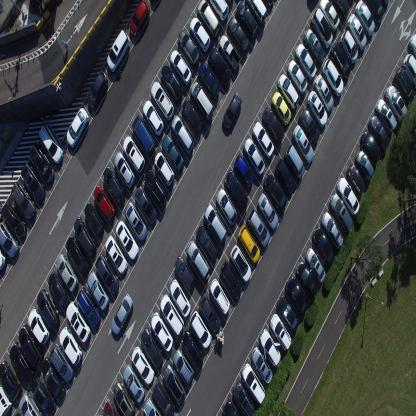car: (40, 356, 65, 401), (66, 299, 91, 343), (38, 122, 63, 166), (106, 29, 130, 74), (9, 341, 33, 386), (159, 292, 184, 335), (18, 324, 42, 368), (94, 253, 119, 295), (29, 142, 54, 184), (20, 162, 46, 202), (110, 292, 134, 335), (140, 327, 164, 370), (242, 362, 266, 405), (76, 287, 101, 328), (162, 362, 186, 404), (132, 115, 155, 158), (224, 169, 248, 210), (188, 310, 212, 351), (150, 311, 174, 352), (150, 80, 174, 121), (190, 81, 214, 122), (11, 180, 36, 219), (203, 202, 226, 244), (105, 232, 128, 274), (276, 294, 299, 336), (122, 362, 145, 404), (1, 201, 27, 238), (170, 114, 194, 154), (124, 200, 148, 240), (102, 165, 126, 205), (116, 219, 140, 259), (36, 288, 60, 328), (263, 172, 287, 212), (336, 176, 360, 216), (30, 377, 55, 415), (74, 216, 96, 259), (186, 240, 209, 281), (66, 107, 89, 148), (131, 344, 154, 385), (208, 45, 231, 86), (310, 7, 333, 48), (329, 193, 353, 232), (384, 84, 408, 123), (259, 326, 281, 368), (168, 277, 191, 317), (198, 293, 221, 333), (219, 260, 242, 300), (238, 224, 261, 264), (247, 208, 270, 248), (134, 184, 157, 224), (87, 270, 110, 310), (66, 235, 89, 275), (250, 345, 273, 385), (59, 326, 82, 366), (312, 226, 335, 266), (143, 169, 167, 207), (320, 211, 344, 249), (181, 329, 203, 370), (56, 252, 78, 293), (122, 135, 145, 174), (50, 344, 73, 383), (218, 33, 241, 72), (0, 360, 21, 402), (285, 275, 307, 315), (270, 312, 292, 352), (216, 186, 238, 226), (48, 270, 70, 310), (292, 124, 314, 164), (161, 134, 184, 172), (197, 62, 220, 100), (196, 0, 219, 38), (27, 307, 50, 345), (226, 16, 249, 54), (235, 0, 258, 38), (230, 245, 252, 284), (86, 69, 108, 108), (160, 63, 182, 102), (128, 0, 151, 37), (92, 185, 115, 222), (258, 192, 280, 230), (243, 138, 265, 176), (252, 121, 274, 159), (262, 105, 284, 143), (295, 42, 317, 80), (177, 30, 200, 66), (347, 12, 367, 53), (113, 150, 134, 189), (195, 224, 217, 261), (142, 99, 164, 136), (296, 261, 318, 298), (172, 348, 194, 385), (277, 72, 299, 109), (302, 27, 324, 64), (375, 97, 397, 134), (152, 380, 175, 415), (222, 90, 242, 130), (314, 73, 334, 113), (209, 278, 230, 316), (174, 255, 195, 293), (274, 157, 295, 195), (305, 246, 326, 284), (189, 16, 211, 52), (286, 59, 308, 95), (368, 115, 390, 151), (233, 381, 256, 415), (354, 0, 375, 37), (323, 59, 344, 96), (299, 107, 320, 144), (170, 50, 192, 84), (113, 381, 135, 415), (84, 200, 104, 237), (307, 90, 327, 127), (284, 142, 304, 179), (182, 98, 203, 133), (318, 0, 340, 33), (0, 220, 19, 258), (154, 150, 174, 186), (272, 90, 292, 126), (233, 154, 254, 188), (361, 130, 381, 164), (355, 148, 374, 182), (346, 164, 365, 197), (340, 30, 358, 64), (245, 0, 268, 26), (394, 66, 412, 98), (364, 0, 385, 26), (19, 392, 42, 415), (402, 53, 416, 90), (208, 0, 229, 22), (0, 384, 13, 415), (143, 396, 163, 415), (332, 0, 350, 19), (222, 398, 240, 416), (102, 400, 120, 415), (408, 32, 416, 58), (0, 248, 6, 270), (262, 0, 275, 8), (380, 0, 390, 8)
